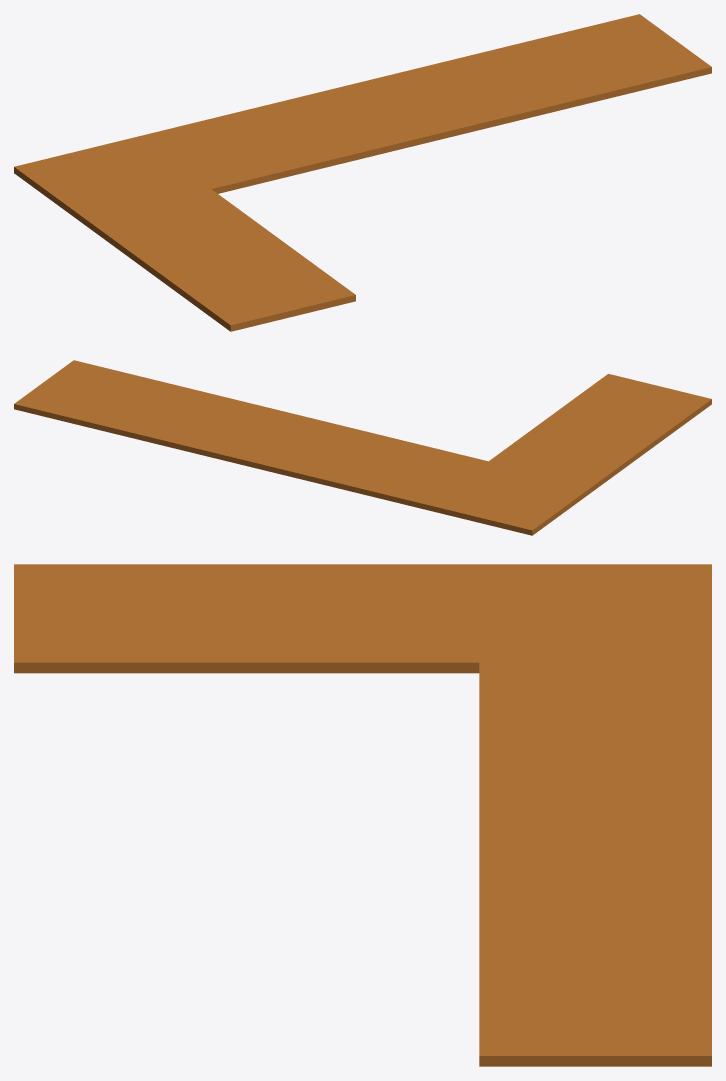
The model's file is Countertop_L_10x6_1.obj.
3 views of the same model, one above another, from view 1: azimuth 30°, elevation 25°; view 2: azimuth 150°, elevation 25°; view 3: azimuth 270°, elevation 25° (orthographic). The views are drawn at different scales.
Bounding box in the file's own units: 3.05 × 0.03 × 1.83.
